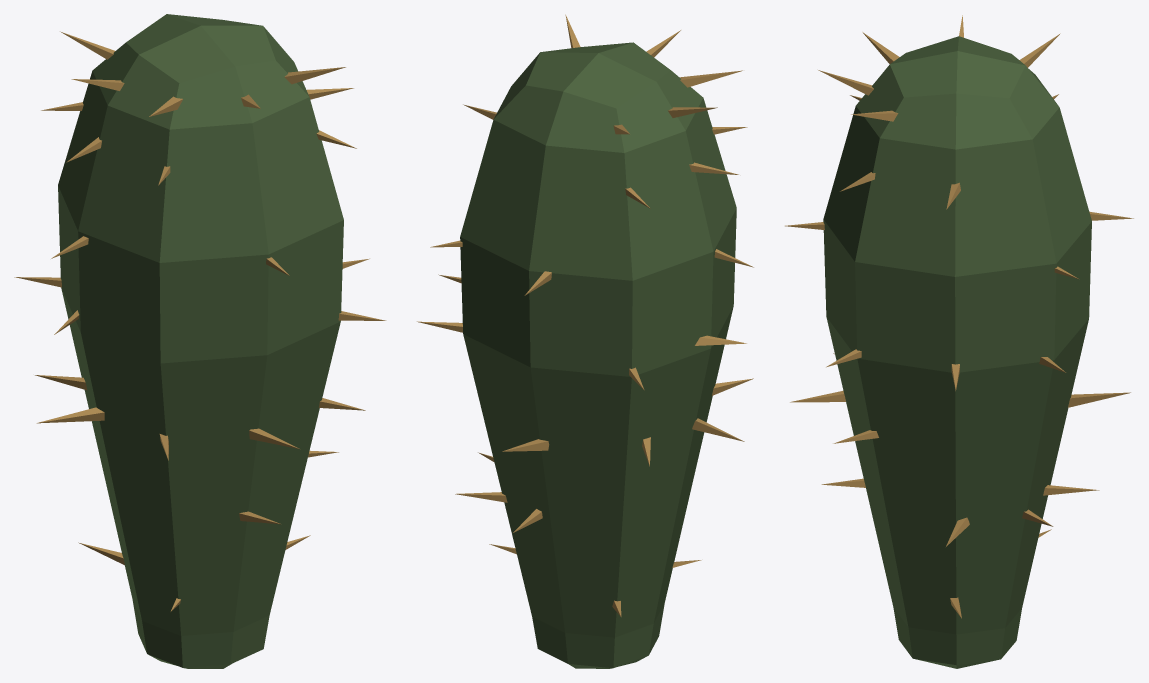
The model's file is cactus_3.glb.
3 renders of one model, left to right at view 1: azimuth 30°, elevation 25°; view 2: azimuth 150°, elevation 25°; view 3: azimuth 270°, elevation 25°, orthographic. The views are drawn at different scales.
Parts seen in each view (by area): view 1: DarkGreen2, LightOrange; view 2: DarkGreen2, LightOrange; view 3: DarkGreen2, LightOrange.
Part boxes in pixels (<box>): DarkGreen2: <box>58,14,343,668</box>; LightOrange: <box>14,31,386,611</box>; DarkGreen2: <box>460,42,736,668</box>; LightOrange: <box>417,14,753,616</box>; DarkGreen2: <box>823,36,1091,668</box>; LightOrange: <box>785,15,1133,618</box>.
Size of the model in its own units: 0.3937 by 0.7217 by 0.382.
